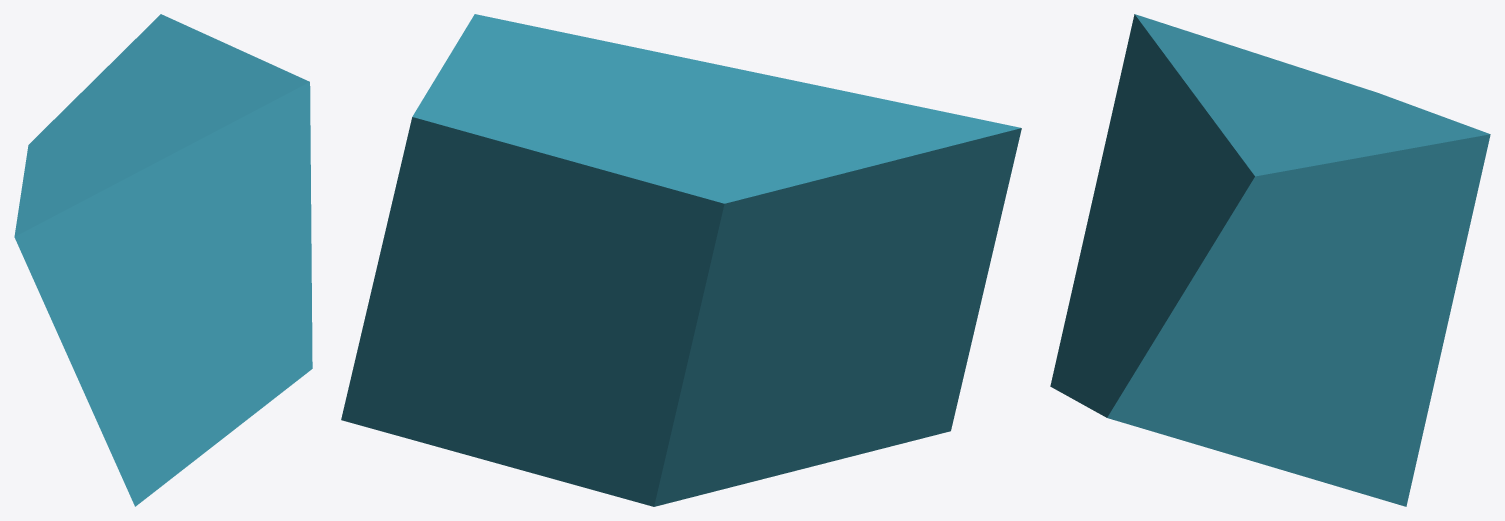
The picture shows the model from 3 angles, left to right: view 1: azimuth 30°, elevation 25°; view 2: azimuth 150°, elevation 25°; view 3: azimuth 270°, elevation 25°; orthographic projection. The views are drawn at different scales.
Parts seen in each view (by area): view 1: Cube.025; view 2: Cube.025; view 3: Cube.025.
Part boxes in pixels (x1=…): Cube.025: x1=14, y1=14, x2=312, y2=506; Cube.025: x1=341, y1=14, x2=1021, y2=506; Cube.025: x1=1050, y1=14, x2=1490, y2=506.
Size of the model in its own units: 1.16 by 0.9276 by 0.9592.
